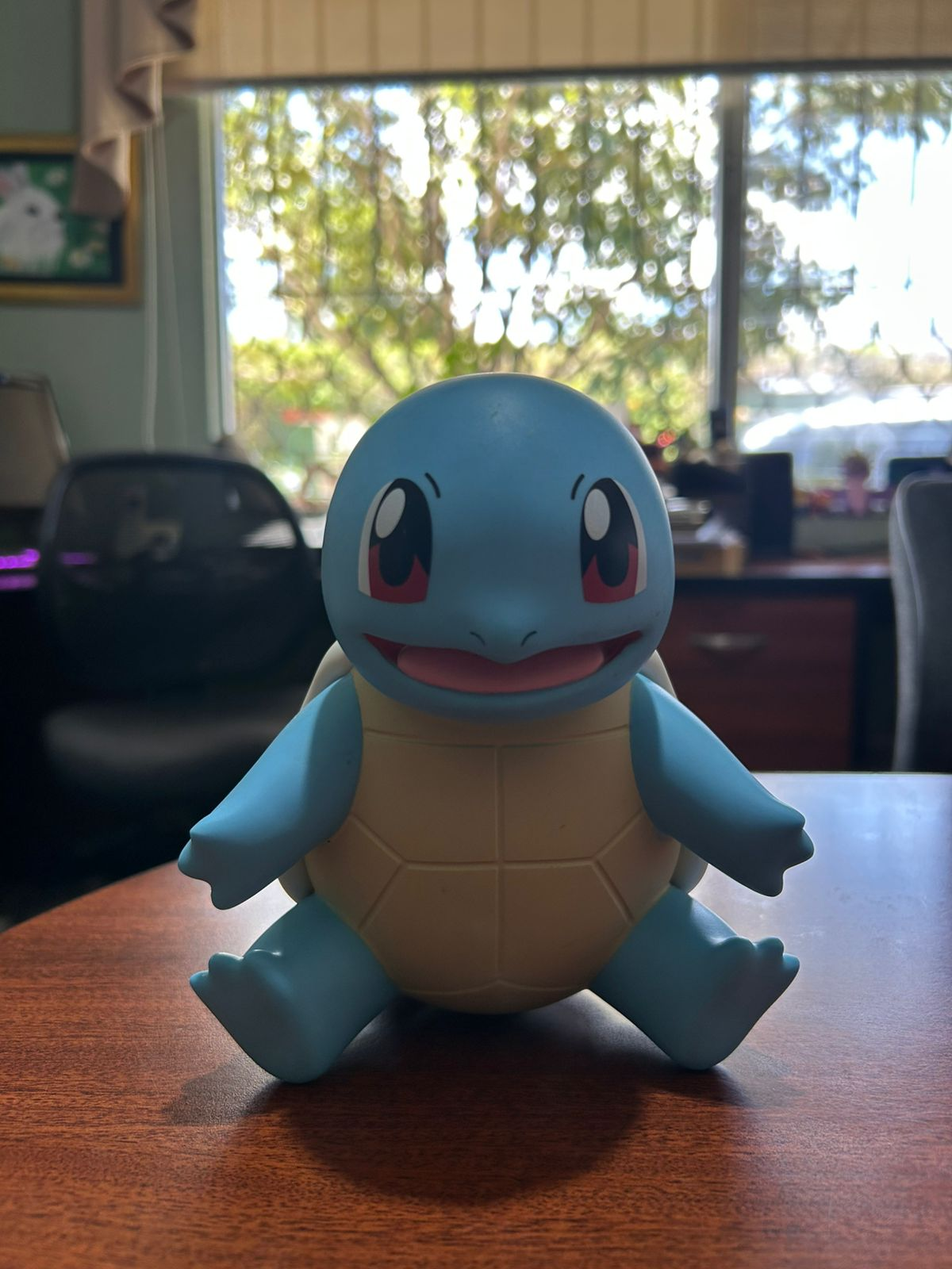Squirtle: (180, 374, 812, 1080)
